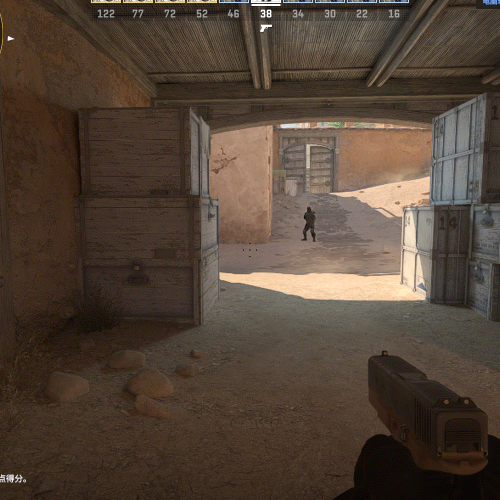ct_body: (303, 207, 317, 242)
ct_head: (306, 207, 312, 213)
